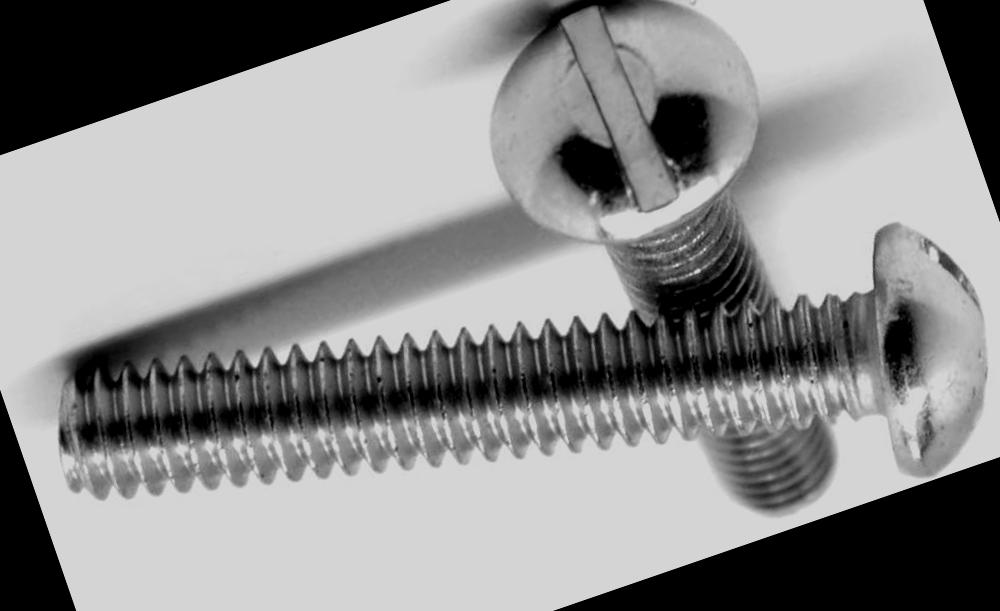screw: (449, 0, 785, 270)
